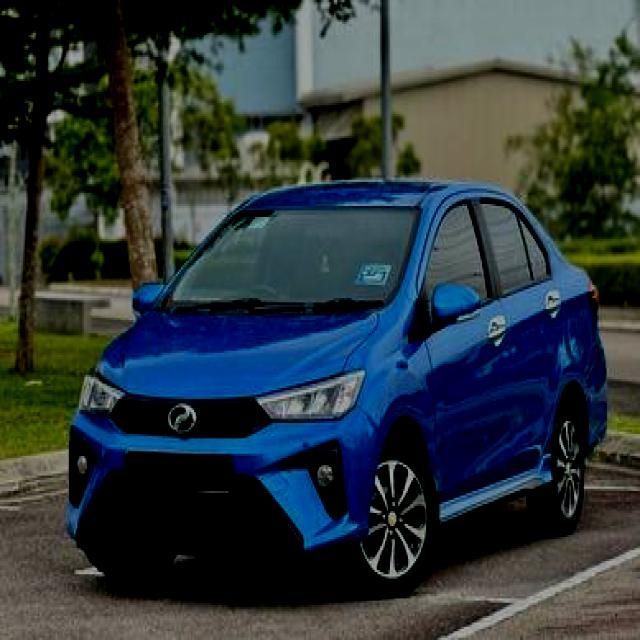PeroduaBezza: (63, 175, 609, 594)
